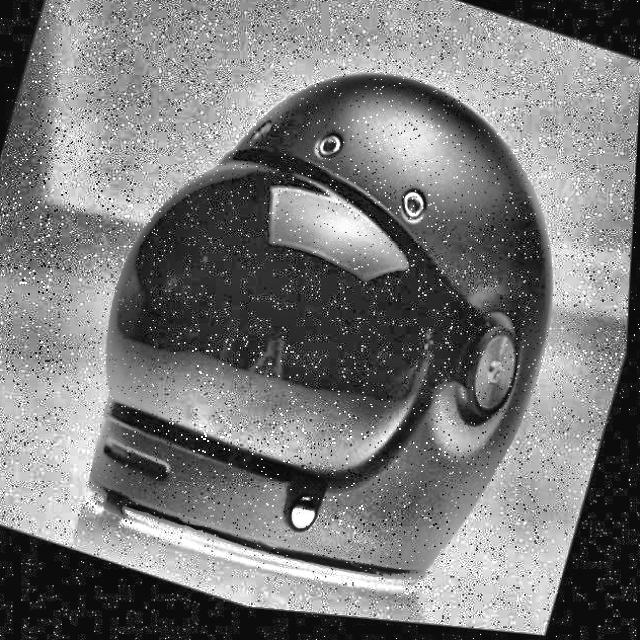Helmet: (44, 0, 624, 640)
